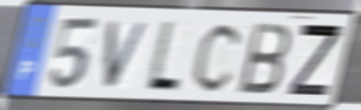5: (47, 16, 102, 92)
B: (236, 20, 294, 97)
C: (190, 19, 246, 95)
L: (143, 18, 183, 94)
V: (102, 19, 153, 91)
Z: (286, 21, 345, 99)
